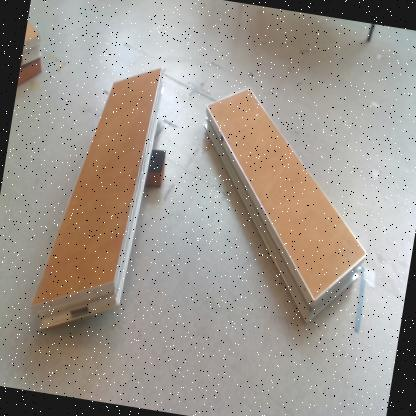Stairs: (203, 86, 370, 326), (30, 64, 168, 334), (21, 19, 41, 68)
